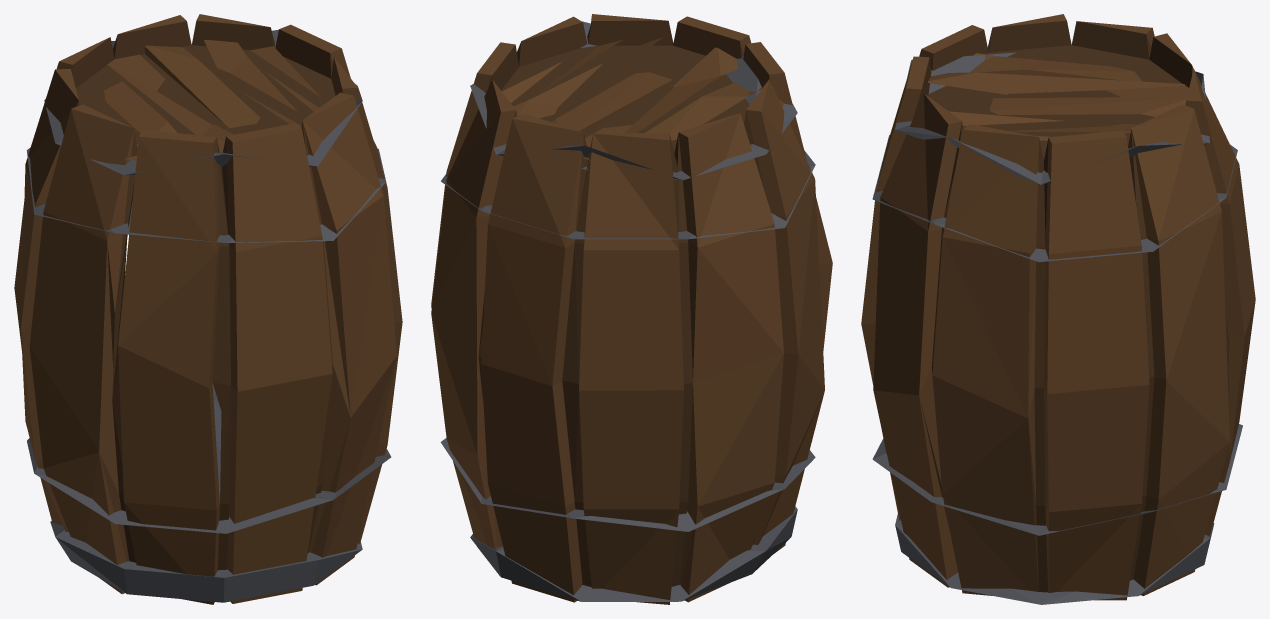
Rendered from barrel2_lod.glb.
3 renders of one model, left to right at view 1: azimuth 30°, elevation 25°; view 2: azimuth 150°, elevation 25°; view 3: azimuth 270°, elevation 25°, orthographic.
Visible parts, largest first — view 1: Barrel; view 2: Barrel; view 3: Barrel.
Boxes of the visible parts, <box> form: Barrel: <box>14,14,402,604</box>; Barrel: <box>431,14,832,604</box>; Barrel: <box>861,14,1255,604</box>.
Size of the model in its own units: 0.1582 by 0.2032 by 0.1568.
